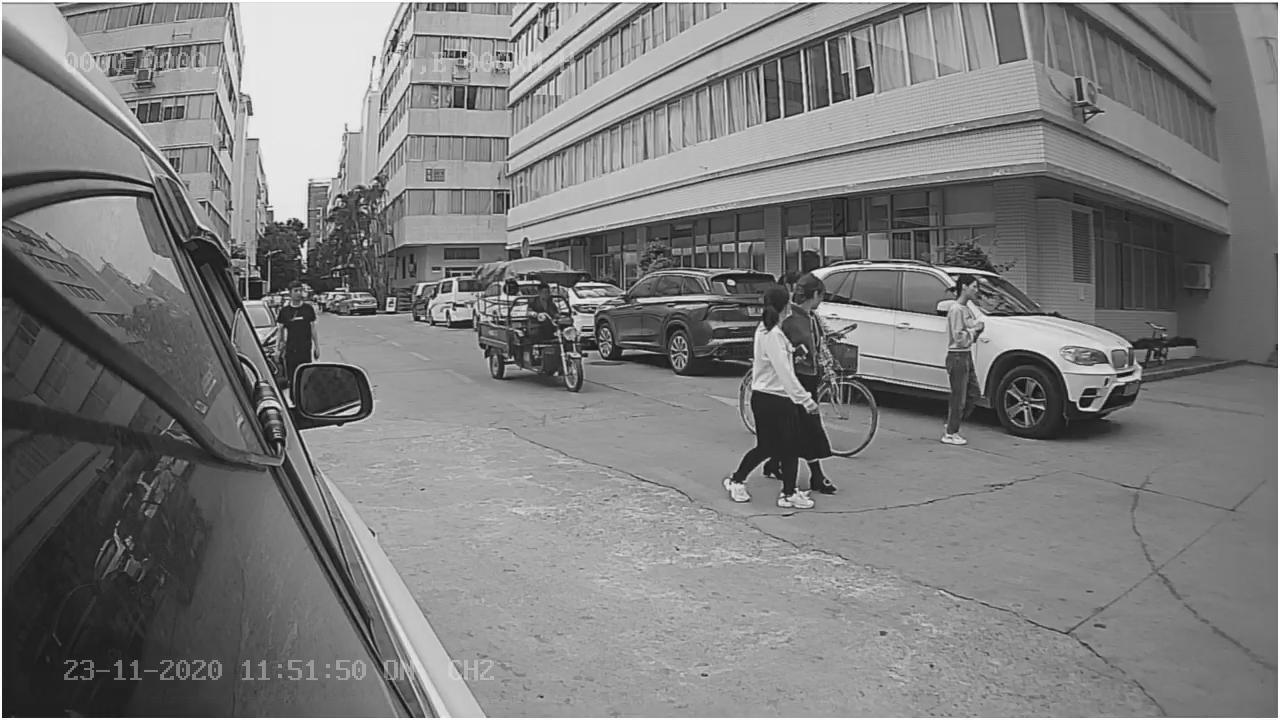person: (723, 279, 824, 516), (931, 259, 995, 457)
